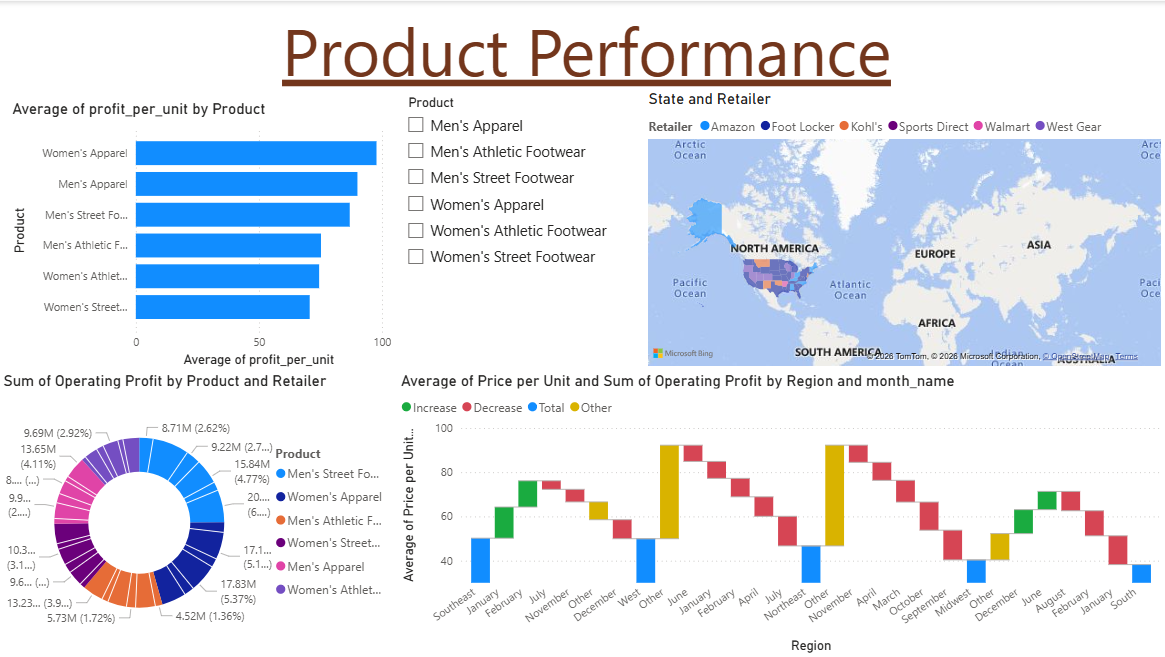

The page's visual inventory and layout, read from the dashboard file:
{"tool":"powerbi","page":{"name":"Page 3","canvas":[1280,720],"ordinal":2},"visuals":[{"type":"textbox","box":[9.6,0,1270.7,108.4],"z":0},{"type":"barChart","fields":{"Y":["Sum(output.Total Sales)"],"Category":["output.Product"]},"box":[572.2,422.6,635.3,297.8],"z":1000},{"type":"donutChart","fields":{"Y":["Sum(output.Operating Profit)"],"Category":["output.Product"],"Series":["output.Retailer"]},"box":[0,406.2,436.4,314.2],"z":2000},{"type":"waterfallChart","fields":{"Y":["Avg(output.Price per Unit)"],"Category":["output.Region"],"Breakdown":["output.month_name"]},"box":[436.4,406.2,843.9,314.2],"z":3000},{"type":"filledMap","fields":{"Category":["output.State"],"Series":["output.Retailer"]},"box":[708.1,97.4,572.2,308.7],"z":4000},{"type":"slicer","fields":{"Values":["output.Product"]},"box":[436.4,97.4,271.7,308.7],"z":5000},{"type":"barChart","fields":{"Category":["output.Product"],"Y":["Avg(output.profit_per_unit)"]},"box":[10,108,426,298],"z":6000}]}

Visuals, with their boxes in screenshot pixels (x1, y1, x2, y2), scaled from the page's 1280x720 canvas onto the 1165x657 screenshot:
textbox: 9,0,1164,99
barChart - Sum(output.Total Sales) x output.Product: 521,386,1099,656
donutChart - Sum(output.Operating Profit) x output.Product: 0,371,397,656
waterfallChart - Avg(output.Price per Unit) x output.Region: 397,371,1164,656
filledMap - output.State x output.Retailer: 644,89,1164,371
slicer - output.Product: 397,89,644,371
barChart - output.Product x Avg(output.profit_per_unit): 9,99,397,370
